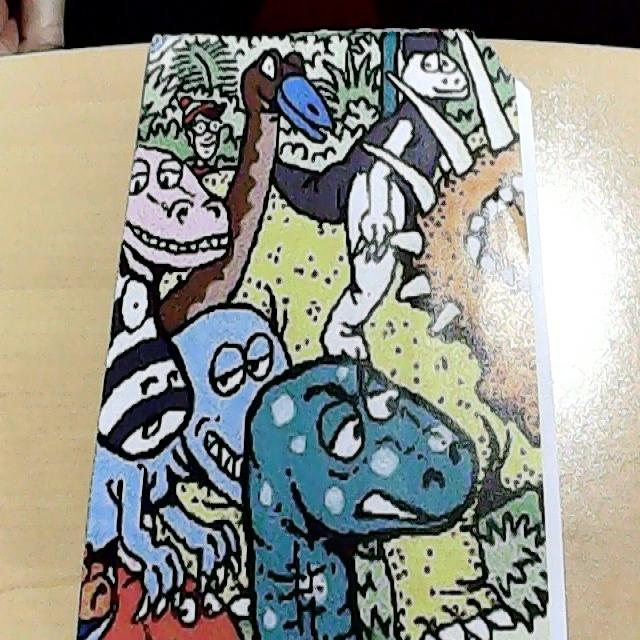waldo: (176, 95, 228, 163)
